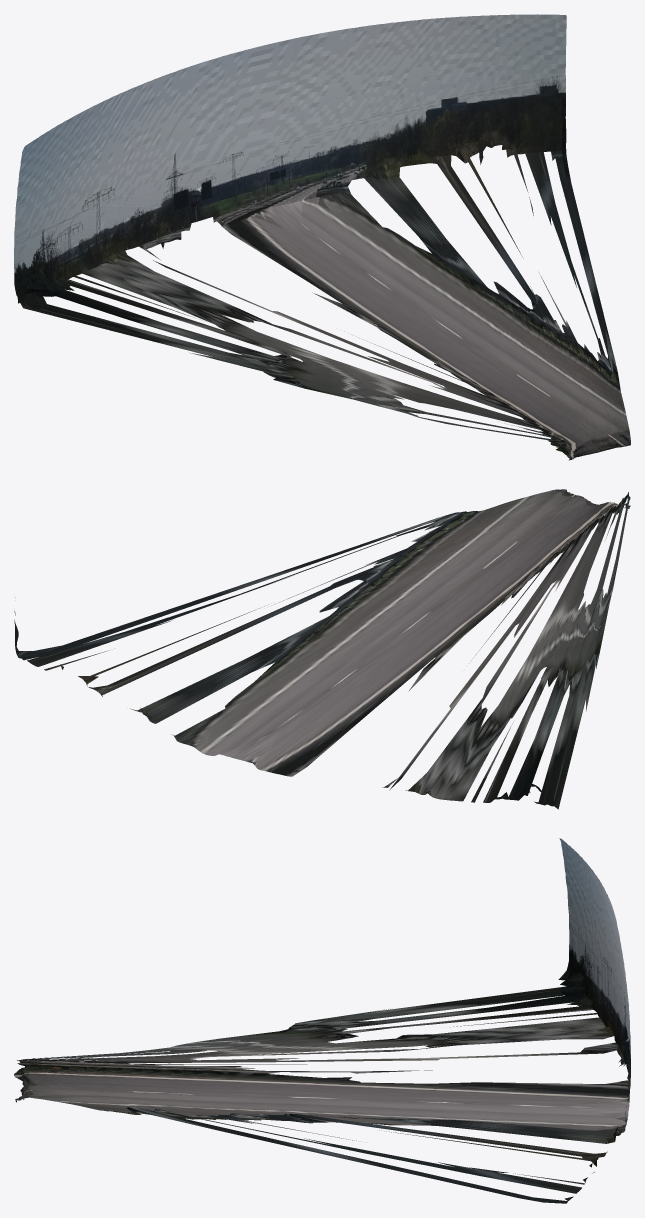
3 renders of one model, top to bottom at view 1: azimuth 30°, elevation 25°; view 2: azimuth 150°, elevation 25°; view 3: azimuth 270°, elevation 25°, orthographic. The views are drawn at different scales.
Parts seen in each view (by area): view 1: defaultobject; view 2: defaultobject; view 3: defaultobject.
Boxes of the visible parts, x1,y1,x2,y2 form: defaultobject: (14, 14, 630, 460); defaultobject: (14, 489, 630, 809); defaultobject: (14, 838, 630, 1203).
Bounding box in the file's own units: 41.11 × 12.8 × 44.66.
1 material, 1 textured.
